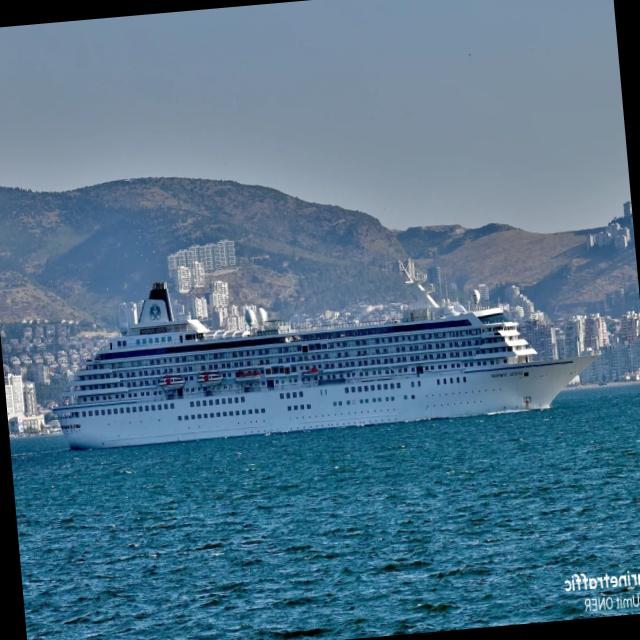Cruise: (53, 273, 594, 448)
